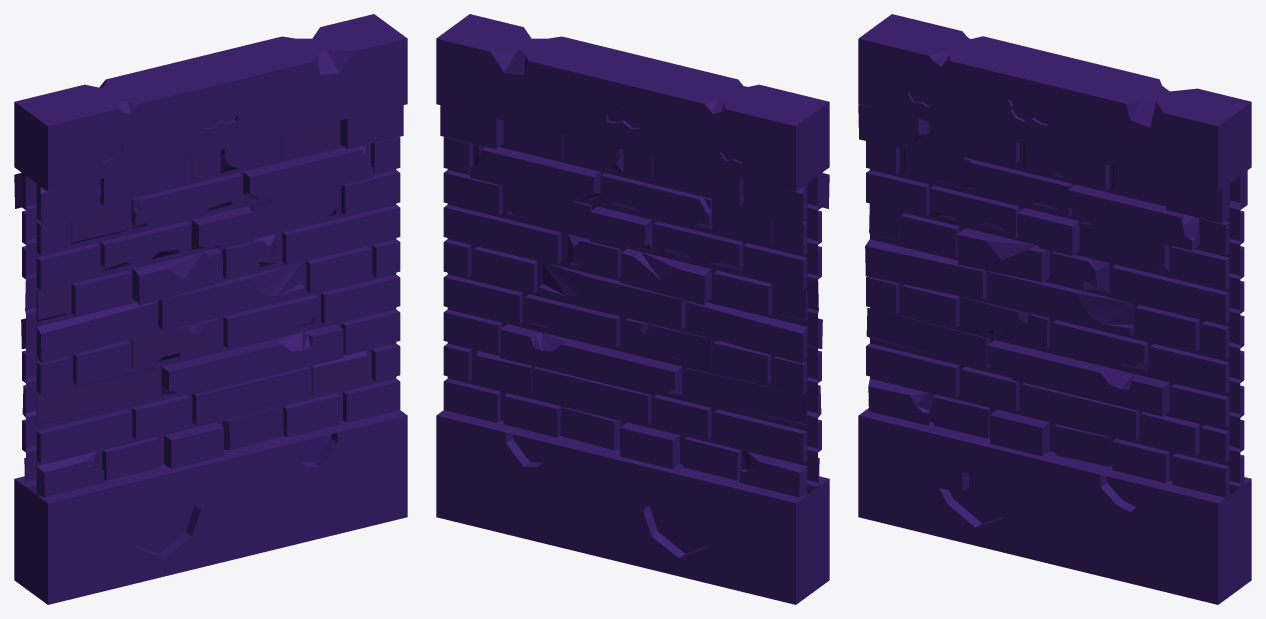
The model's file is WALL.fbx.
3 views of the same model, side by side, from view 1: azimuth 30°, elevation 25°; view 2: azimuth 150°, elevation 25°; view 3: azimuth 330°, elevation 25° (orthographic).
Parts seen in each view (by area): view 1: WALL_SAMPLE_LP; view 2: WALL_SAMPLE_LP; view 3: WALL_SAMPLE_LP.
Boxes of the visible parts, x1,y1,x2,y2 form: WALL_SAMPLE_LP: (14,14,407,604); WALL_SAMPLE_LP: (436,14,829,604); WALL_SAMPLE_LP: (858,14,1251,604).
Bounding box in the file's own units: 958 × 1206 × 153.
